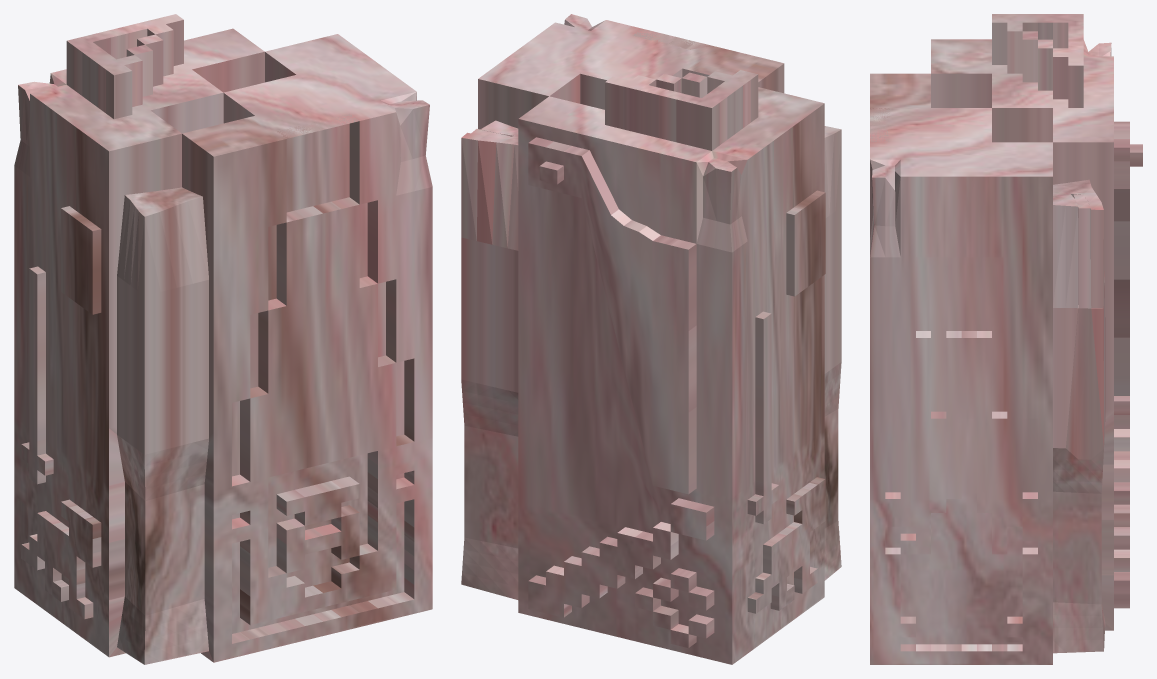
File: Ruin 2.fbx
3 views of the same model, side by side, from view 1: azimuth 30°, elevation 25°; view 2: azimuth 150°, elevation 25°; view 3: azimuth 270°, elevation 25° (orthographic). The views are drawn at different scales.
Parts seen in each view (by area): view 1: Ruin_2; view 2: Ruin_2; view 3: Ruin_2.
Boxes of the visible parts, <box> form: Ruin_2: <box>14,14,432,664</box>; Ruin_2: <box>461,14,841,664</box>; Ruin_2: <box>870,14,1142,664</box>.
Bounding box in the file's own units: 2.06 × 3.6 × 1.68.
1 material, 1 textured.
